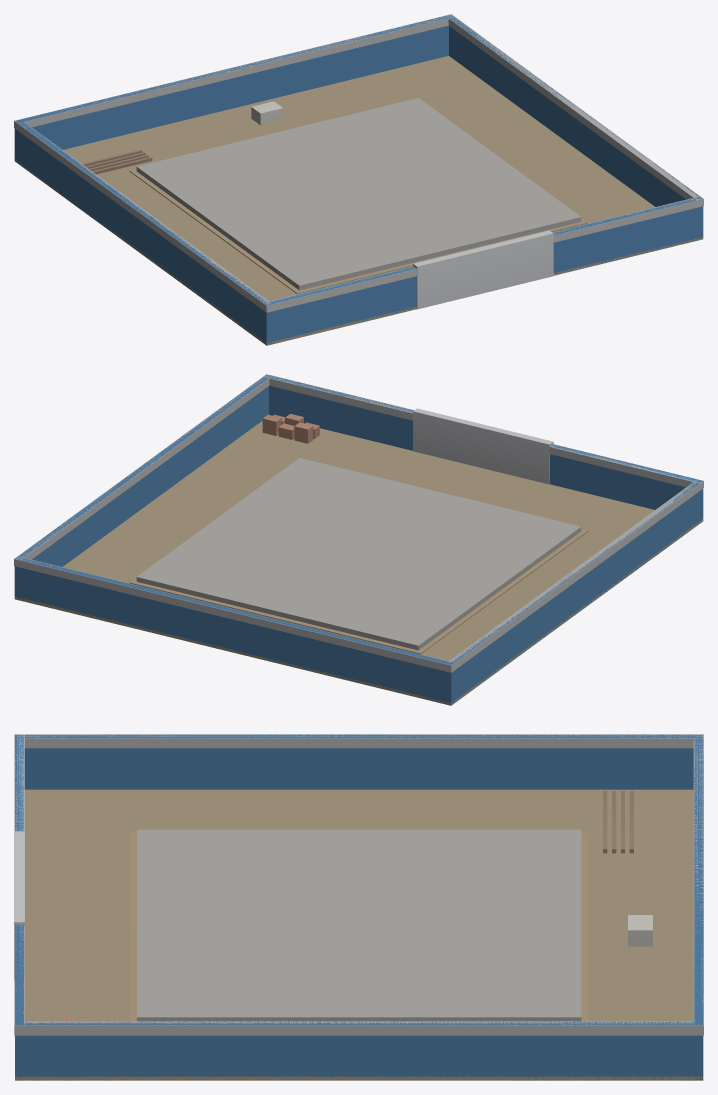
The model's file is build-2-0.glb.
The picture shows the model from 3 angles, top to bottom: view 1: azimuth 30°, elevation 25°; view 2: azimuth 150°, elevation 25°; view 3: azimuth 270°, elevation 25°; orthographic projection. The views are drawn at different scales.
Visible parts, largest first — view 1: build-2-0; view 2: build-2-0; view 3: build-2-0.
Part boxes in pixels (<box>): build-2-0: <box>14,14,703,345</box>; build-2-0: <box>14,374,703,705</box>; build-2-0: <box>14,734,703,1080</box>.
Bounding box in the file's own units: 1.92 × 0.18 × 1.93.
